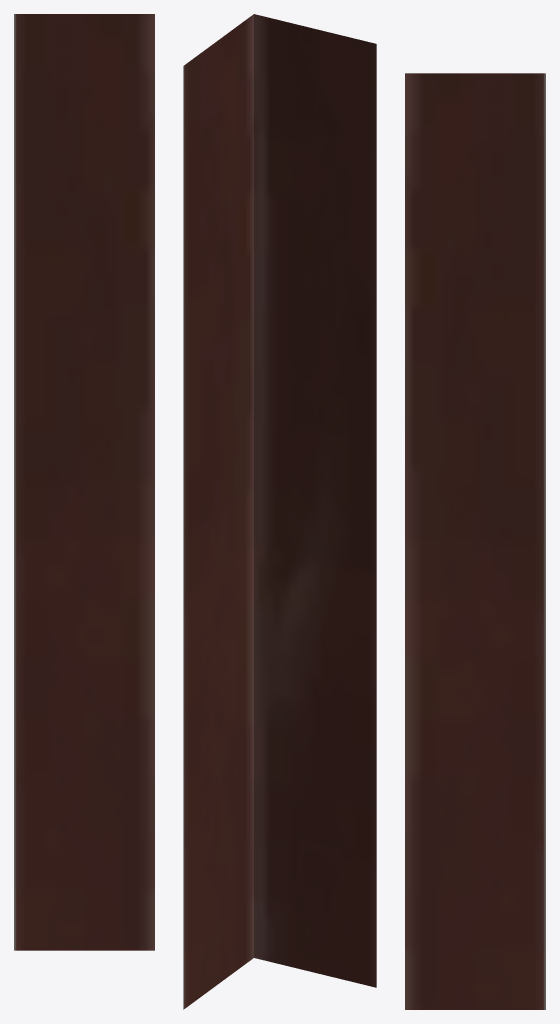
File: lava_half_convex_02.fbx
The picture shows the model from 3 angles, left to right: view 1: azimuth 90°, elevation 25°; view 2: azimuth 150°, elevation 25°; view 3: azimuth 270°, elevation 25°; orthographic projection.
Visible parts, largest first — view 1: obj0.089; view 2: obj0.089; view 3: obj0.089.
Boxes of the visible parts, left/top/right/bottom form: obj0.089: left=14, top=14, right=154, bottom=950; obj0.089: left=183, top=14, right=376, bottom=1009; obj0.089: left=405, top=73, right=545, bottom=1009.
Bounding box in the file's own units: 0.374 × 2.75 × 0.375.
